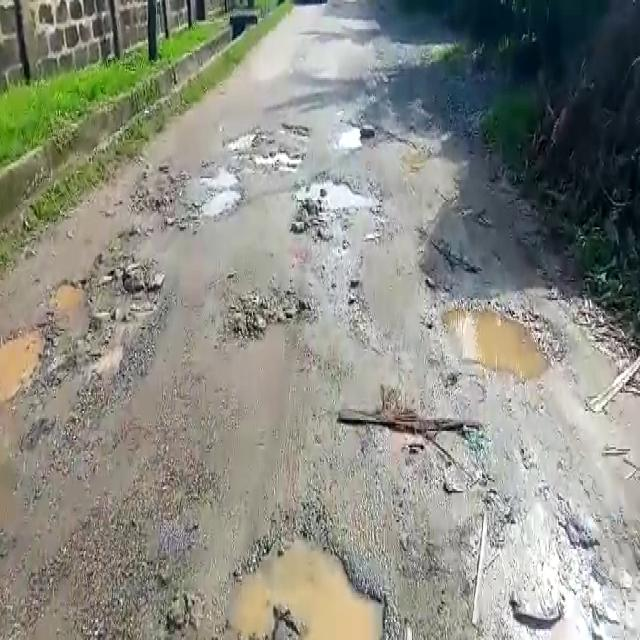Pothole: (213, 510, 411, 639), (50, 260, 159, 337), (459, 296, 565, 374), (0, 318, 53, 404), (293, 173, 381, 219), (201, 165, 246, 220), (246, 150, 302, 173), (336, 126, 362, 152), (282, 120, 310, 142)
